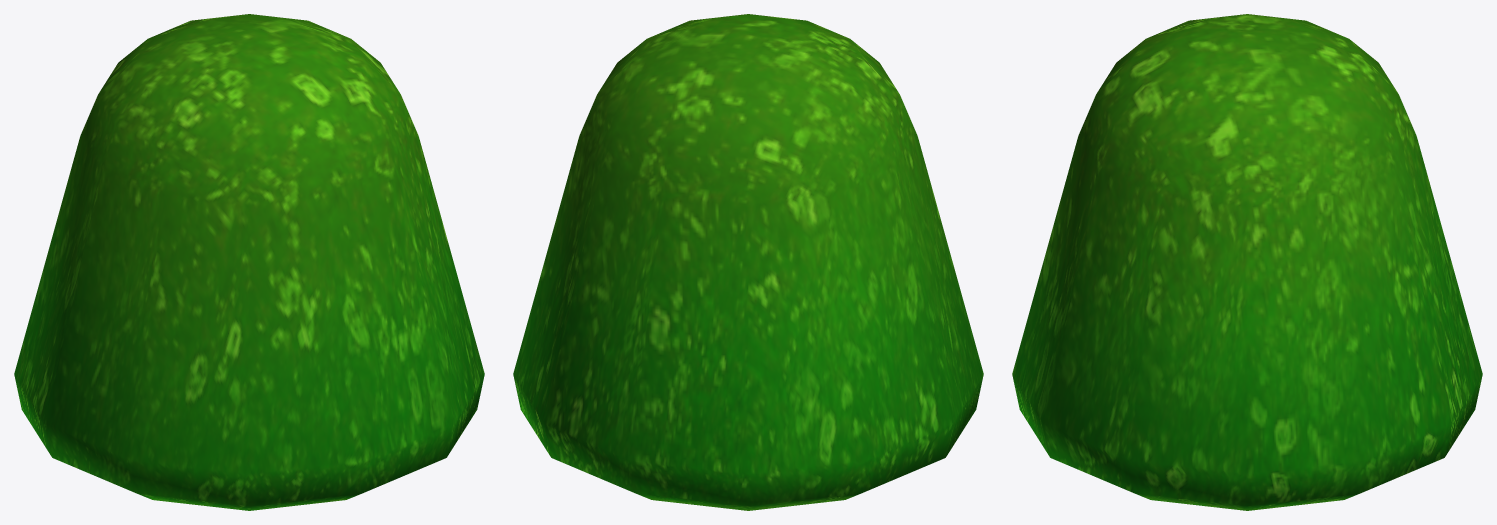
Rendered from CHP_MOD_Marmalade_green.fbx.
The picture shows the model from 3 angles, left to right: view 1: azimuth 30°, elevation 25°; view 2: azimuth 150°, elevation 25°; view 3: azimuth 270°, elevation 25°; orthographic projection.
Parts seen in each view (by area): view 1: CHP_MOD_Marmalade_green; view 2: CHP_MOD_Marmalade_green; view 3: CHP_MOD_Marmalade_green.
Boxes of the visible parts, x1,y1,x2,y2 form: CHP_MOD_Marmalade_green: [14, 14, 484, 510]; CHP_MOD_Marmalade_green: [513, 14, 983, 510]; CHP_MOD_Marmalade_green: [1012, 14, 1482, 510].
Bounding box in the file's own units: 0.5048 × 0.4654 × 0.5048.
